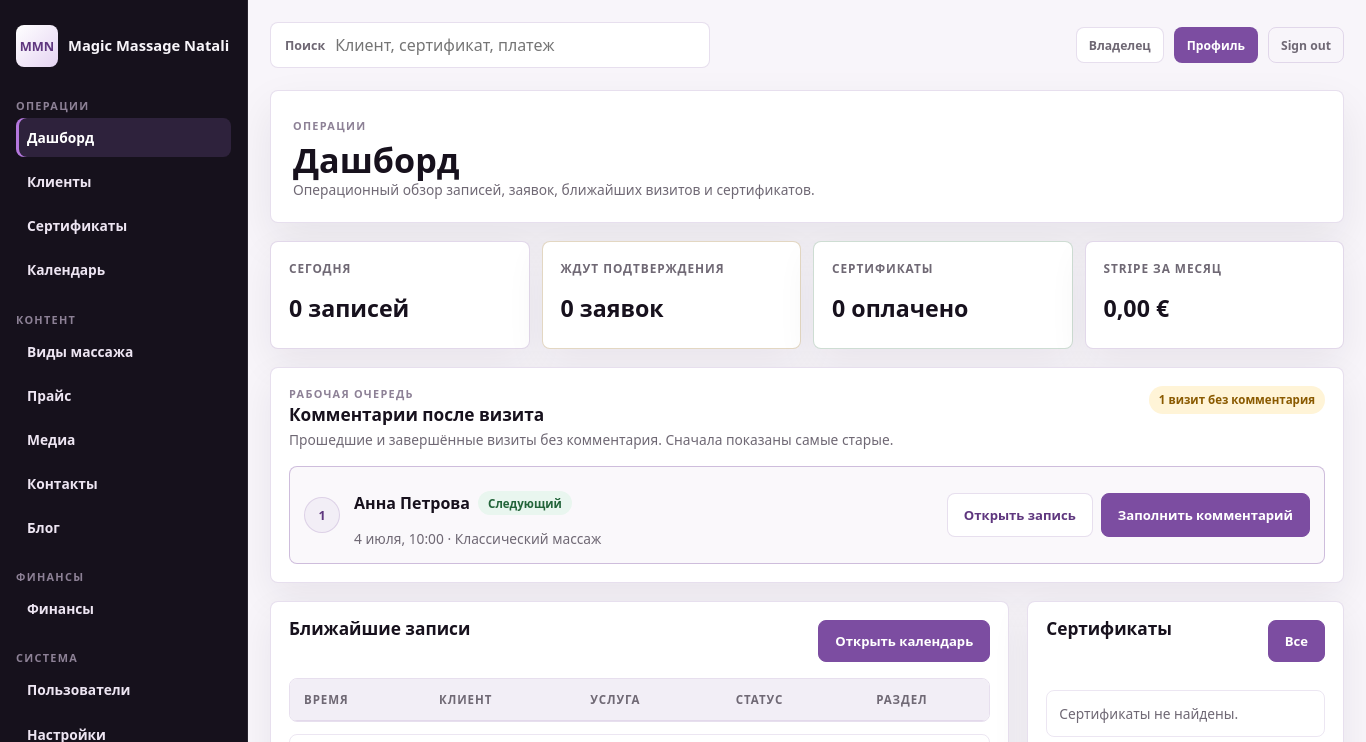
Test: AdminShell › shows the owner an oldest-first queue of past visits without comments
expect the text "1 визит без комментария" is shown: met, box [1149,386,1325,414]
Click the button with aria-label "Заполнить комментарий: Анна Петрова" at (1205, 515), box [1101,493,1310,537]
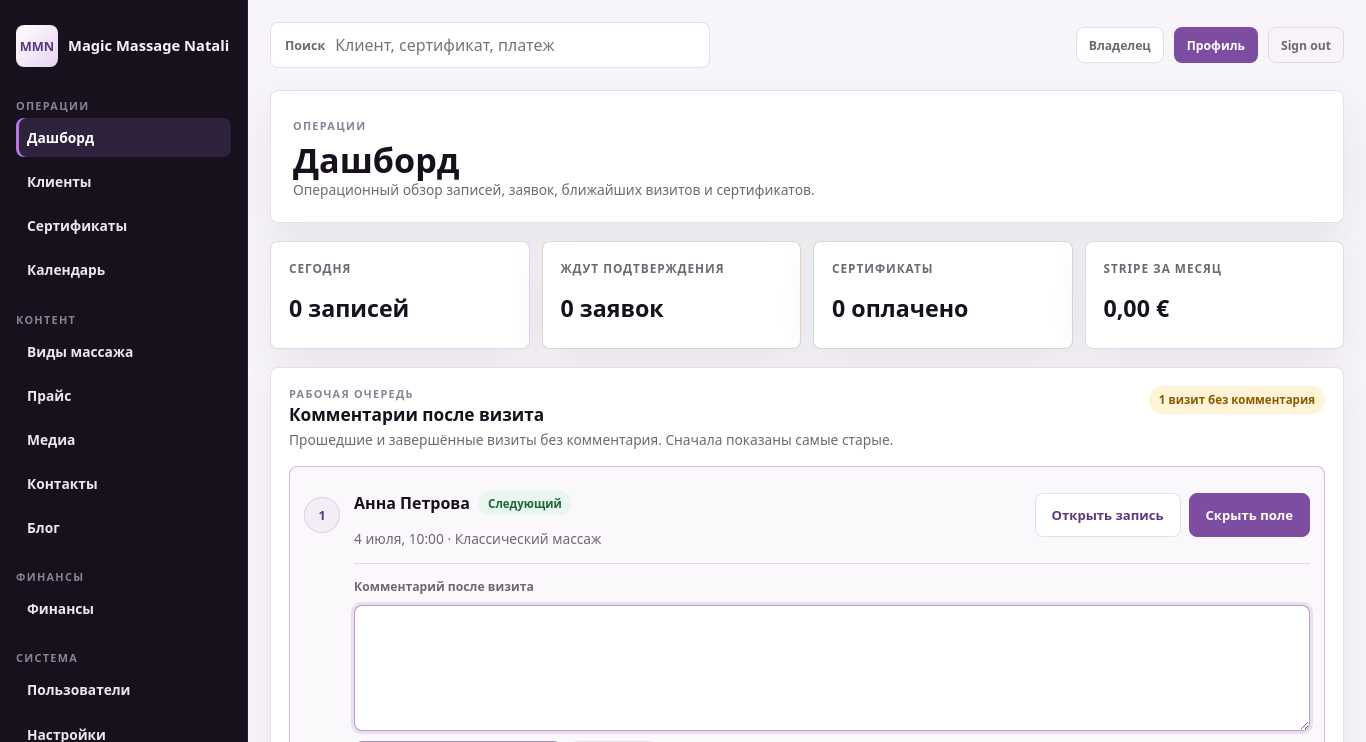
Type "Клиент хорошо перенёс массаж." into the text box labelled "Комментарий после визита" at (832, 668), box [354,605,1310,731]
(page scrolled)
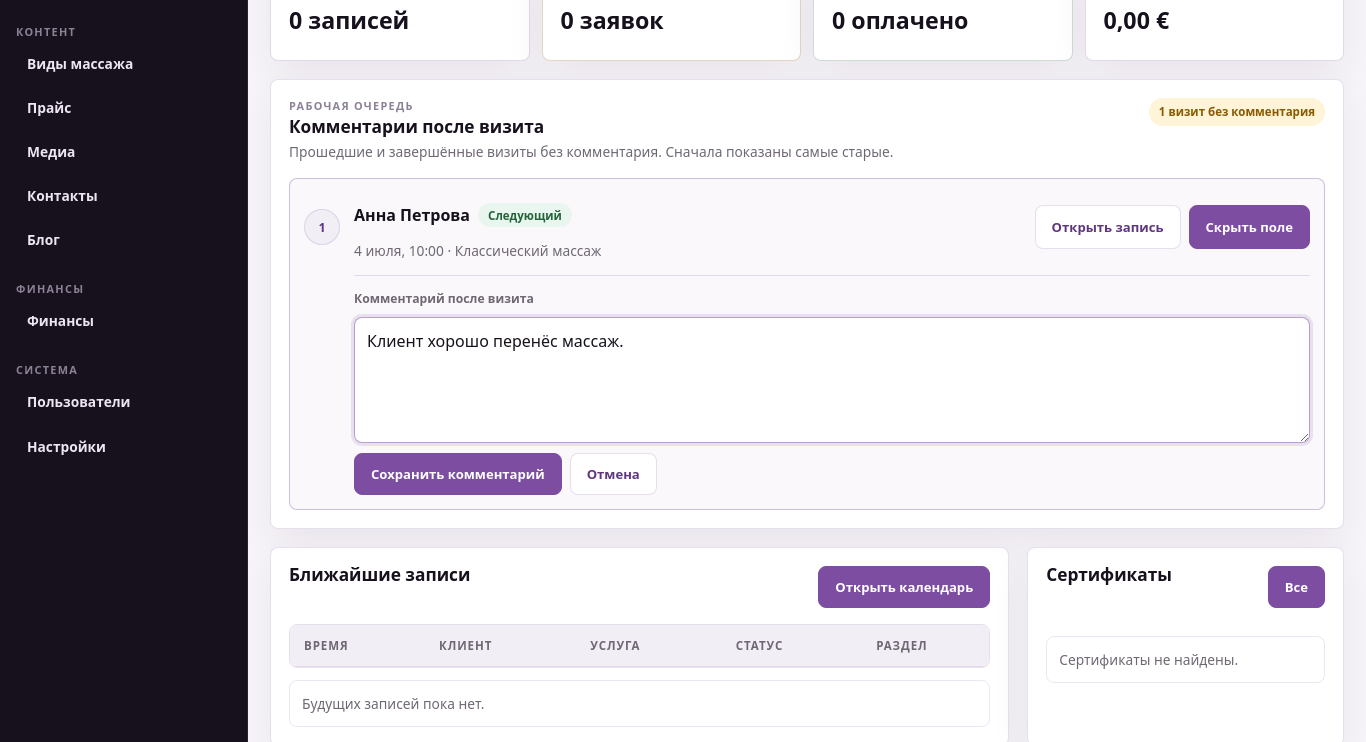
Click the button "Сохранить комментарий" at (458, 474), box [354,453,562,495]
(page scrolled)
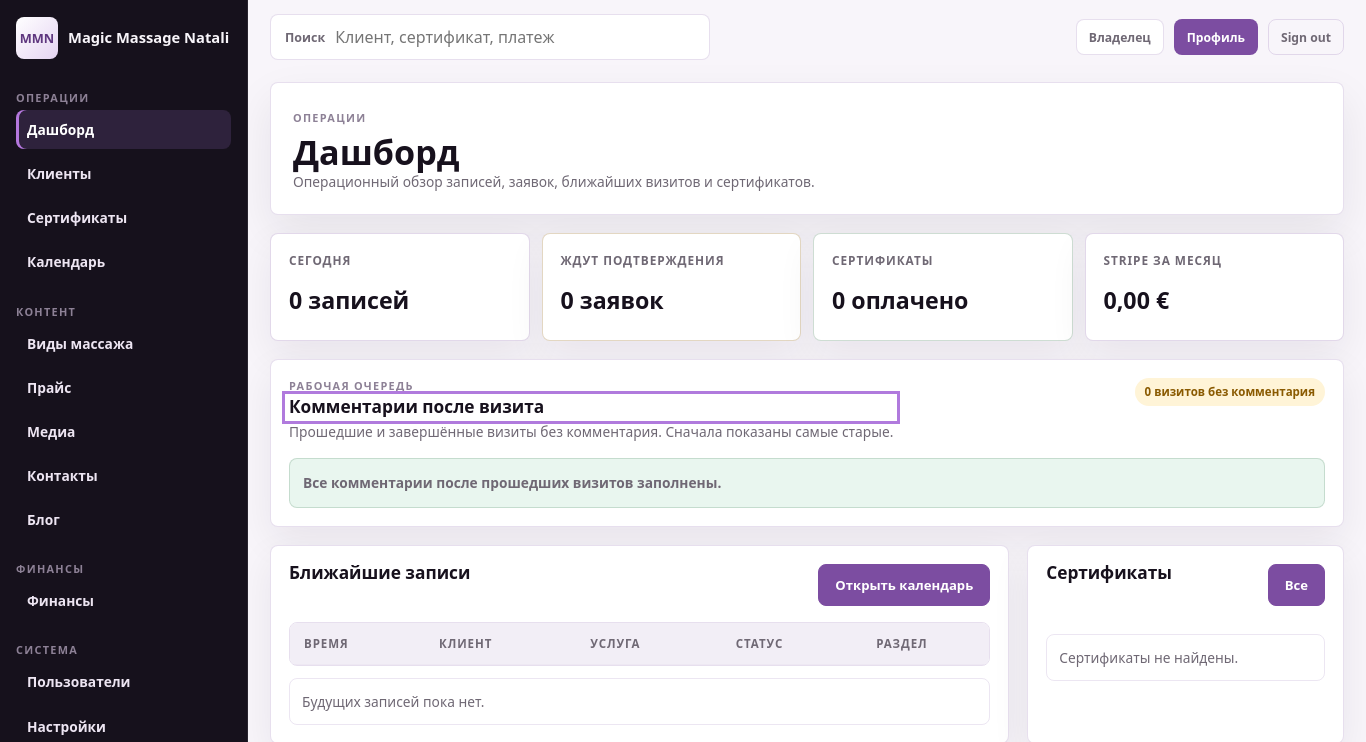
expect the text "Все комментарии после прошедших визитов заполнены." is shown: met, box [289,458,1325,508]
